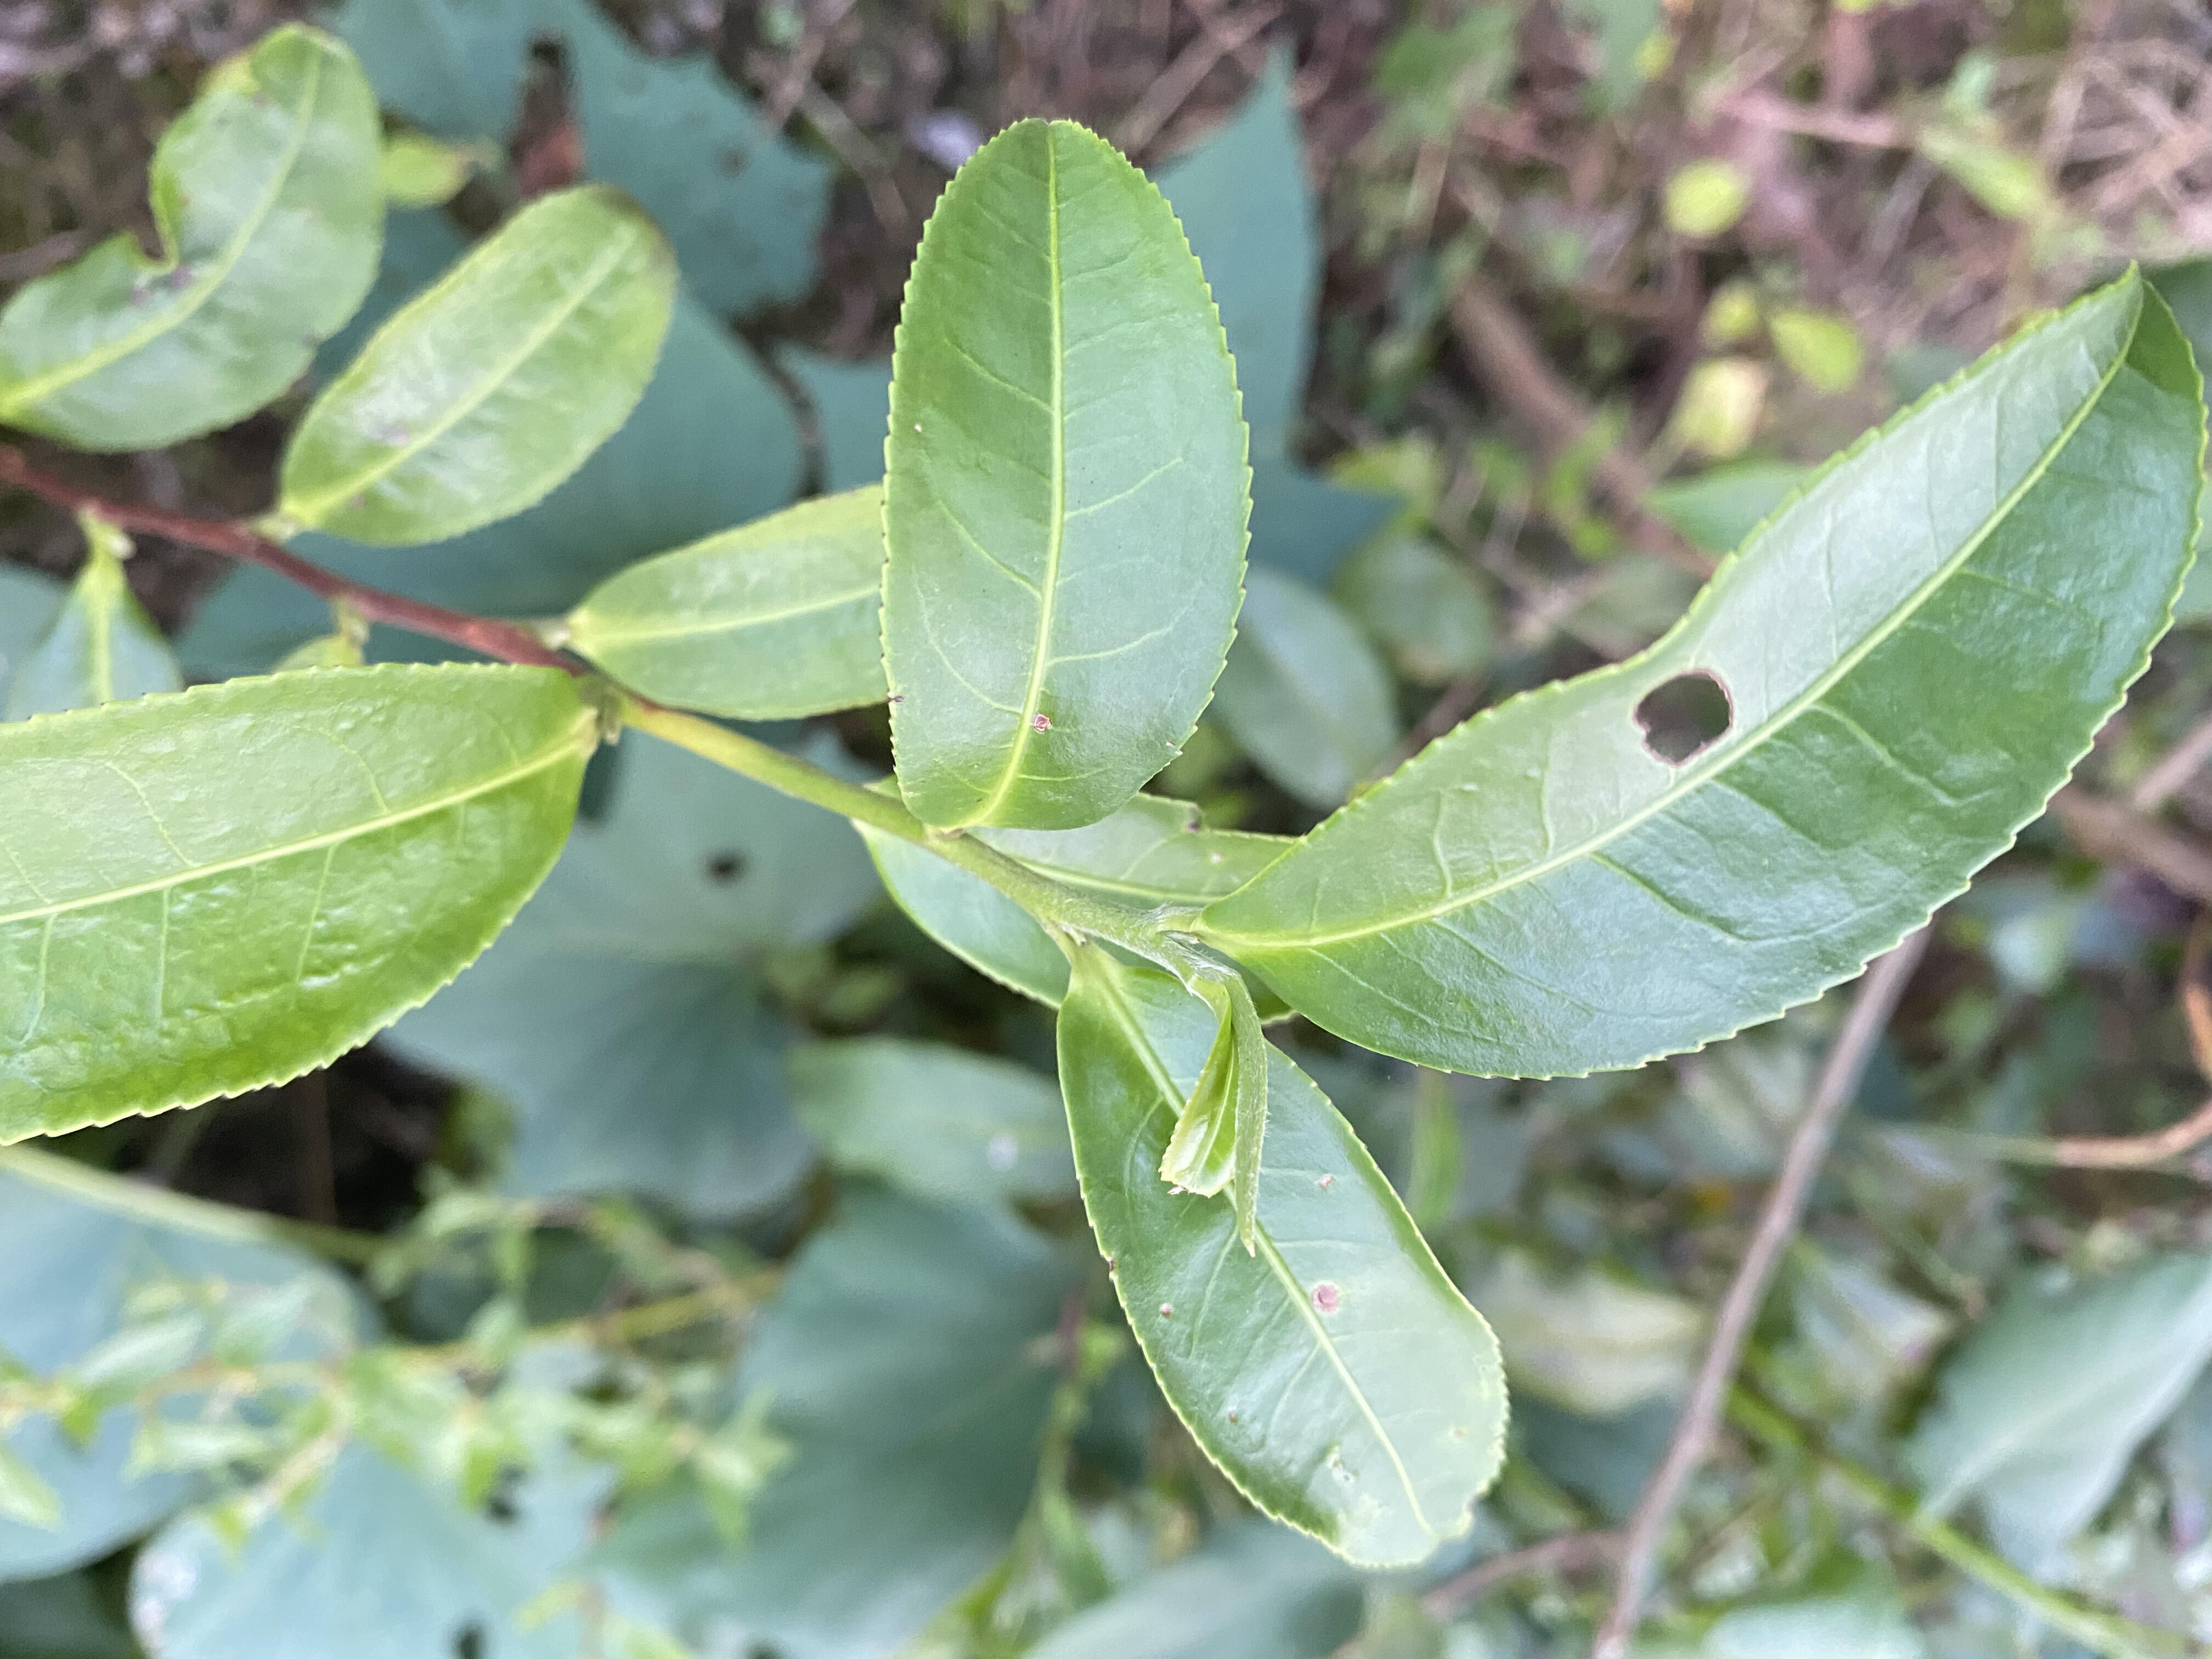chihuo_low: (1221, 256, 2207, 1080)
healthy: (3, 659, 596, 1150)
tanju_low: (1057, 967, 1514, 1568), (878, 119, 1254, 830)
